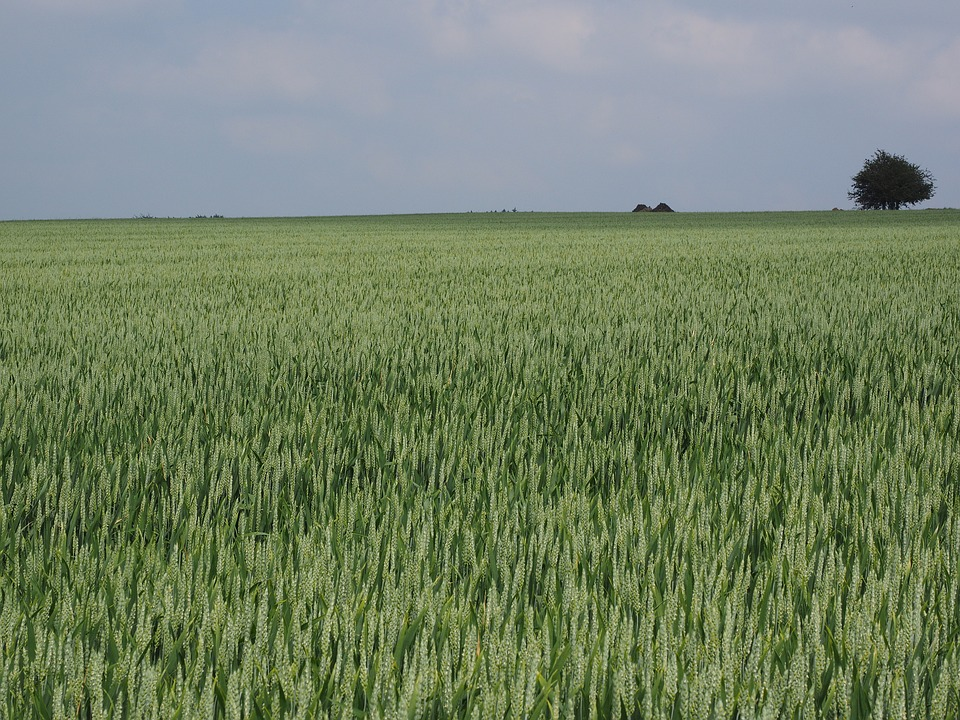Wheat: (134, 406, 914, 720)
